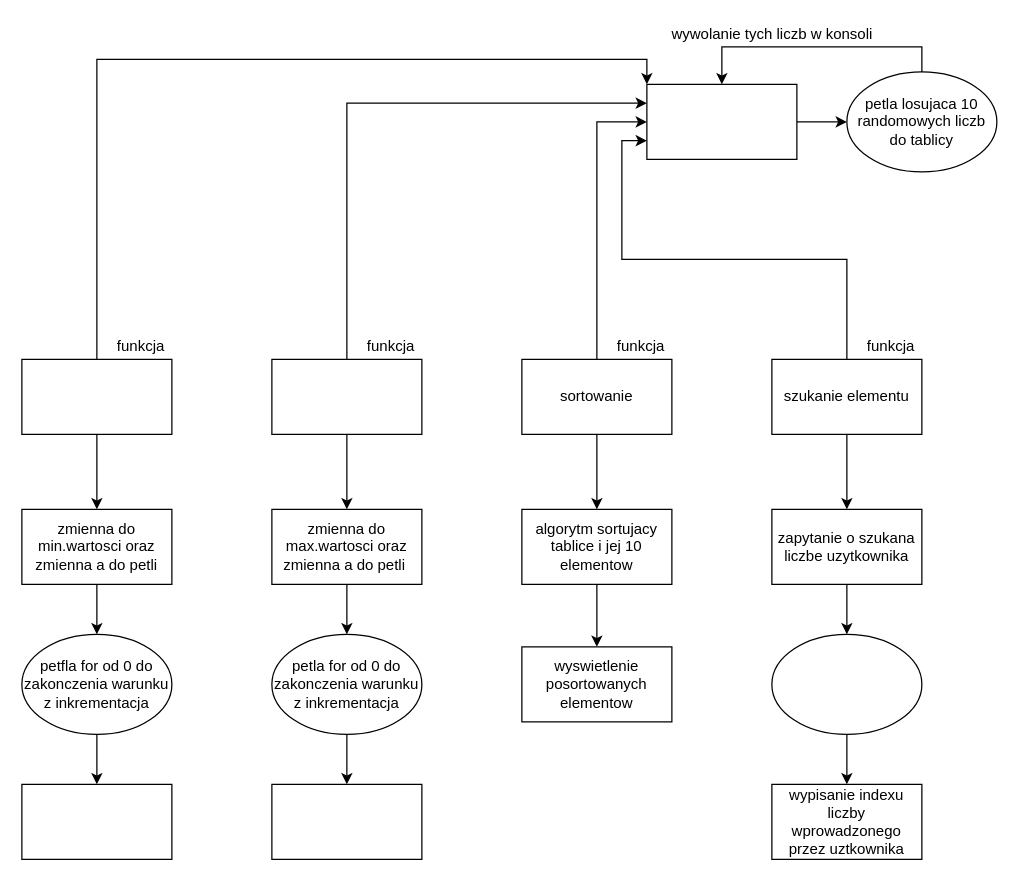
The diagram is 1019 pixels wide and 881 high, and some of its shapes have lost their labels. The shapes that lost their labels are listed below. From the top down, each one's box as (x1, y1, x2, y2) in pixels, then its label:
(646, 83, 797, 159): main z tablica 10 elementowa oraz zmienna i jako index
(21, 358, 172, 434): minimalna wartosc
(271, 358, 422, 434): maxymalna wartosc
(771, 633, 922, 734): petla iterujaca po kazdym indexie w tablicy
(21, 783, 172, 859): jezeli jest mniejsza niz pozotale 9 wypiusz te liczbe
(271, 783, 422, 859): jezeli jest wieksza niz pozostale 9 wypisz te liczbe
